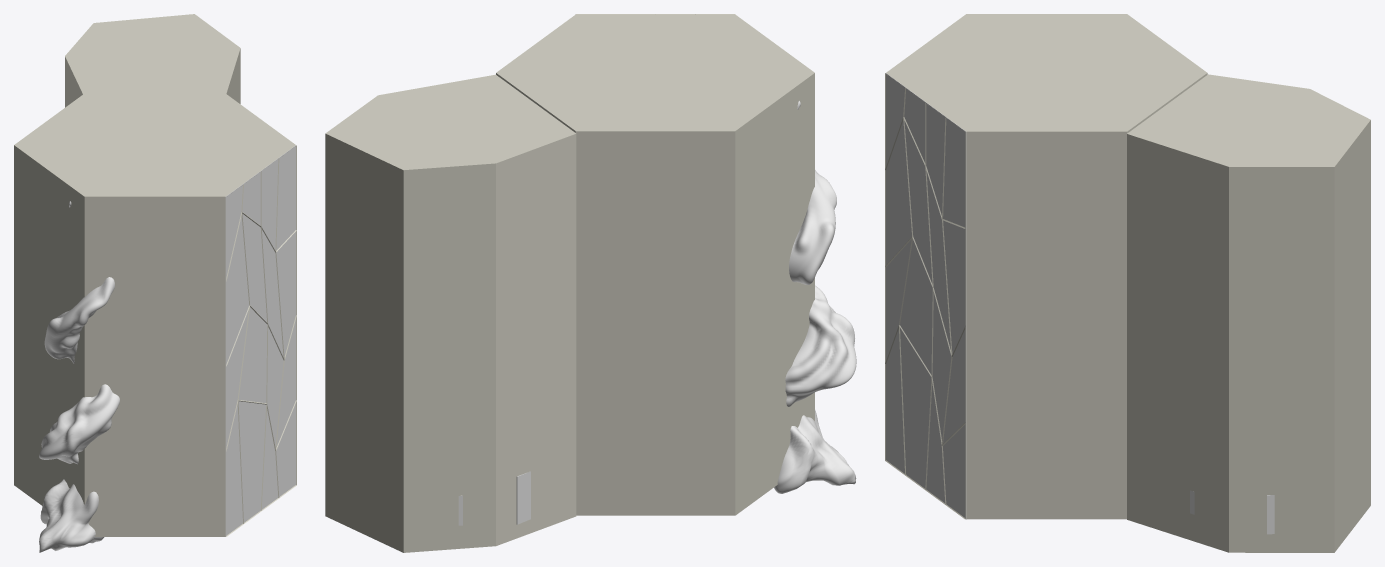
File: constant.fbx
3 views of the same model, side by side, from view 1: azimuth 30°, elevation 25°; view 2: azimuth 150°, elevation 25°; view 3: azimuth 270°, elevation 25° (orthographic). The views are drawn at different scales.
Visible parts, largest first — view 1: room, window glass, gallery, constant things, window frame; view 2: room, gallery, constant things, painting 5; view 3: gallery, room, window glass, window frame.
Boxes of the visible parts, box(x1,y1,x2,y2) form: room: box(14, 93, 295, 536); window glass: box(225, 145, 296, 536); gallery: box(65, 14, 240, 107); constant things: box(39, 201, 119, 552); window frame: box(226, 145, 296, 536); room: box(496, 14, 814, 515); gallery: box(325, 74, 576, 552); constant things: box(774, 101, 856, 493); painting 5: box(516, 471, 530, 524); gallery: box(1127, 74, 1370, 552); room: box(886, 14, 1207, 519); window glass: box(885, 73, 966, 519); window frame: box(885, 73, 965, 519).
Bounding box in the file's own units: 386 × 415 × 456.
